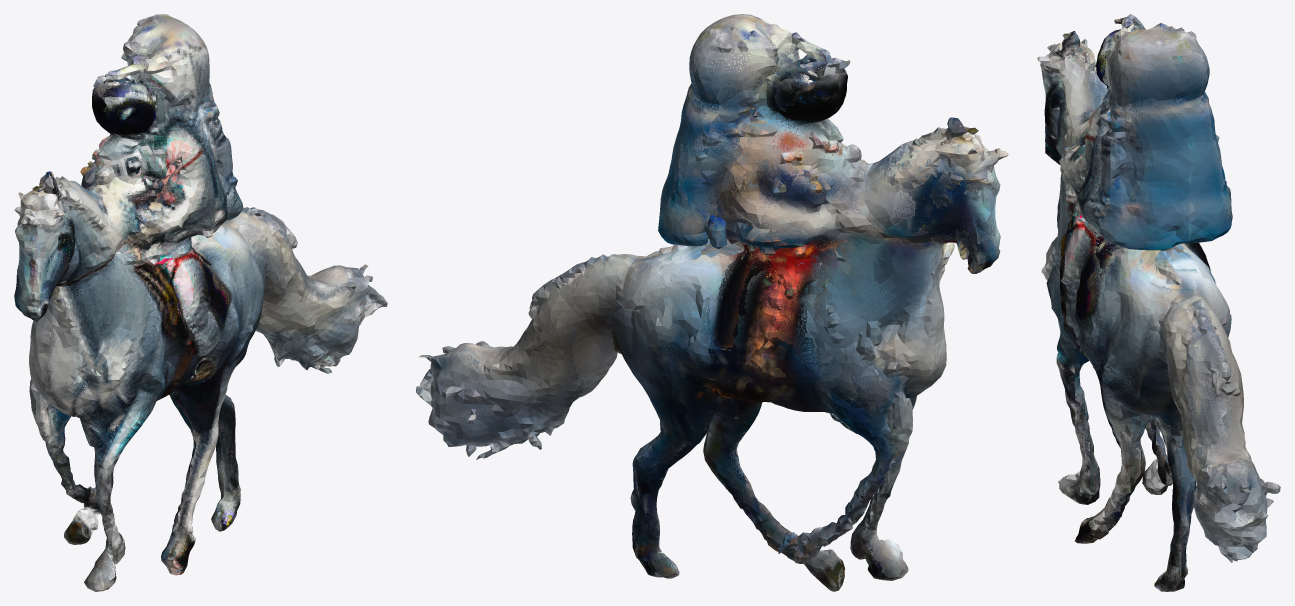
File: astronaut_009.glb
3 views of the same model, side by side, from view 1: azimuth 30°, elevation 25°; view 2: azimuth 150°, elevation 25°; view 3: azimuth 270°, elevation 25° (orthographic). The views are drawn at different scales.
Bounding box in the file's own units: 1.23 × 1.37 × 0.5658.
1 material, 1 textured.
